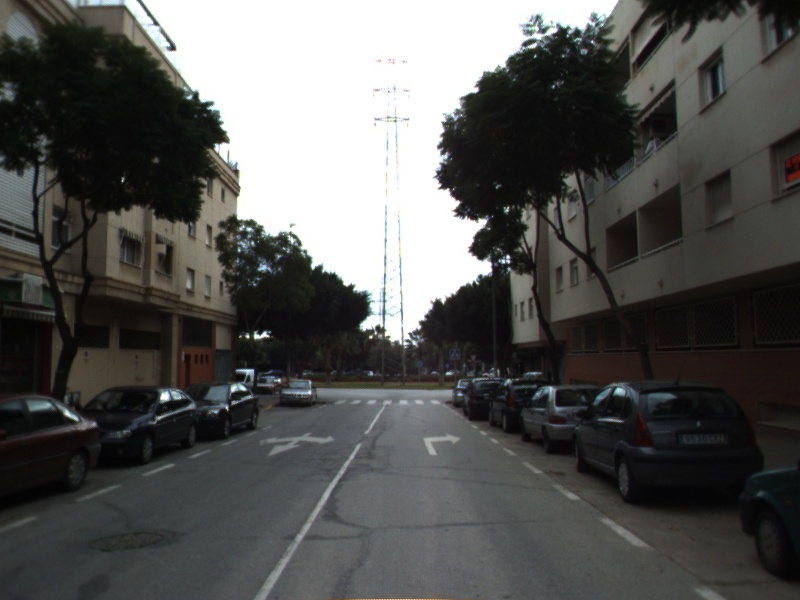RIGHT: (422, 431, 463, 457)
